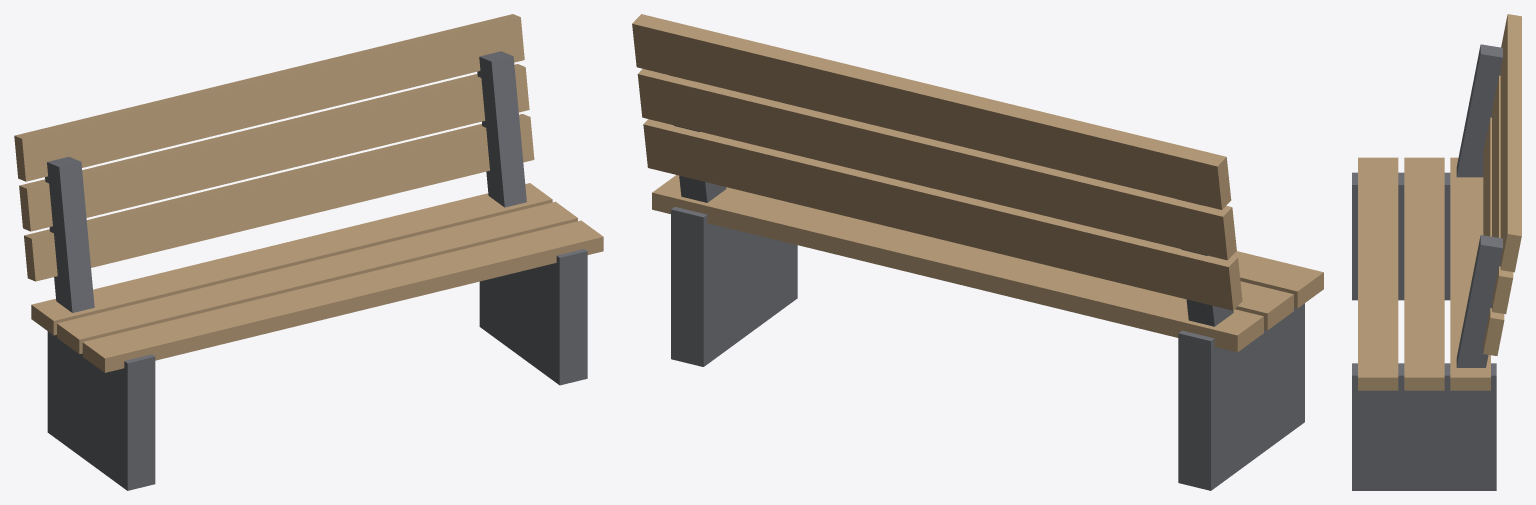
File: racecourse-and-parade-ring-spectator-bench-1be5eac9__38656.glb
3 views of the same model, side by side, from view 1: azimuth 30°, elevation 25°; view 2: azimuth 150°, elevation 25°; view 3: azimuth 270°, elevation 25° (orthographic). The views are drawn at different scales.
Parts seen in each view (by area): view 1: spectator-bench; view 2: spectator-bench; view 3: spectator-bench.
Boxes of the visible parts, x1,y1,x2,y2 form: spectator-bench: (14, 14, 603, 490); spectator-bench: (632, 14, 1323, 490); spectator-bench: (1352, 14, 1521, 490).
Size of the model in its own units: 1.8 by 1.01 by 0.5868.
